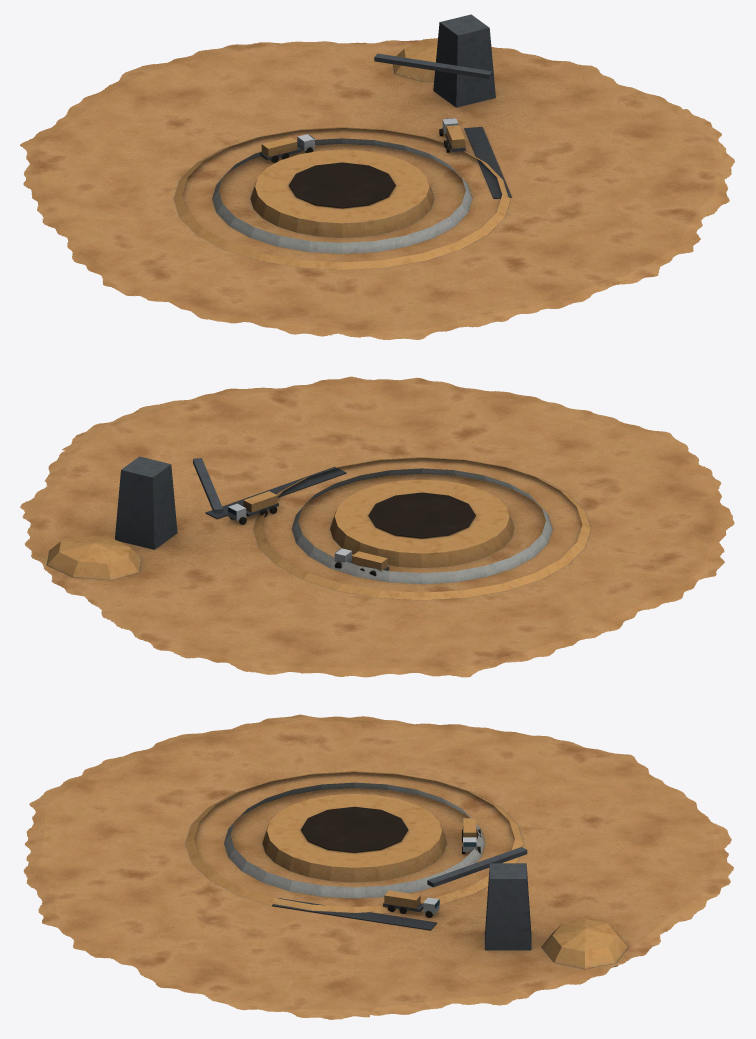
File: mine-information.glb
3 renders of one model, top to bottom at view 1: azimuth 30°, elevation 25°; view 2: azimuth 150°, elevation 25°; view 3: azimuth 270°, elevation 25°, orthographic.
Visible parts, largest first — view 1: LOD0; view 2: LOD0; view 3: LOD0.
Boxes of the visible parts, x1=… form: LOD0: x1=20, y1=14, x2=734, y2=339; LOD0: x1=20, y1=376, x2=734, y2=677; LOD0: x1=23, y1=714, x2=733, y2=1019.
Size of what is drawn, in the model's own units: 4.8 by 0.5301 by 4.74.
Materials: 2 (2 with a texture image).
